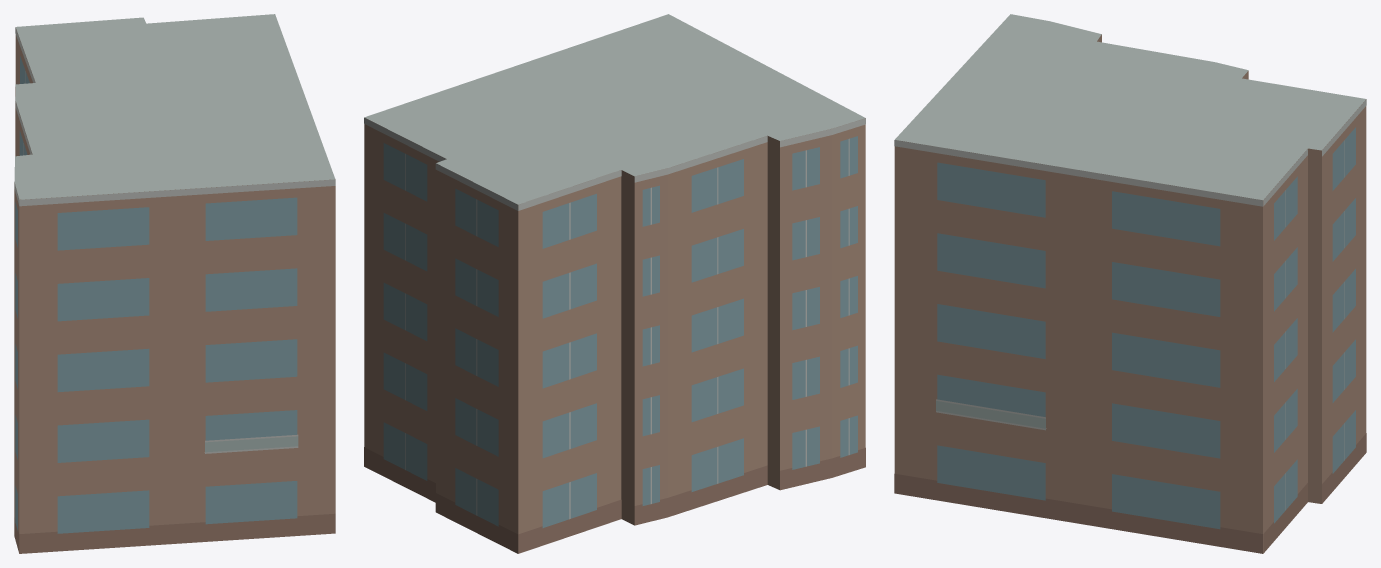
File: survey-upis-32871320.glb
The picture shows the model from 3 angles, left to right: view 1: azimuth 30°, elevation 25°; view 2: azimuth 150°, elevation 25°; view 3: azimuth 270°, elevation 25°; orthographic projection.
Visible parts, largest first — view 1: survey-upis-32871320.tmp; view 2: survey-upis-32871320.tmp; view 3: survey-upis-32871320.tmp.
Boxes of the visible parts, left/top/right/bottom form: survey-upis-32871320.tmp: left=14, top=14, right=335, bottom=553; survey-upis-32871320.tmp: left=364, top=14, right=865, bottom=553; survey-upis-32871320.tmp: left=894, top=14, right=1366, bottom=553.
Bounding box in the file's own units: 15.07 × 13.33 × 16.13.
